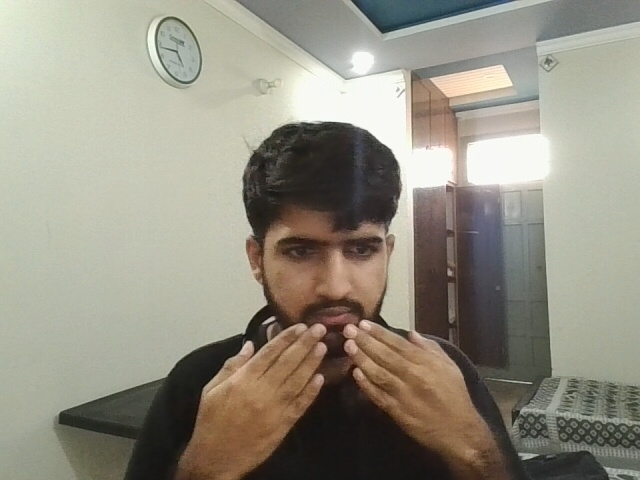Thanks: (181, 319, 520, 470)
